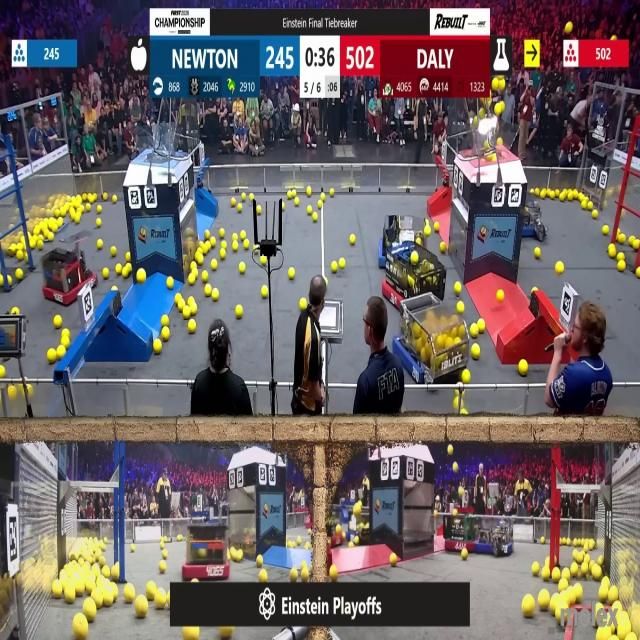ball_airborne: (494, 103, 502, 115), (492, 78, 499, 90), (567, 20, 574, 32), (499, 78, 505, 89), (496, 138, 502, 148), (448, 446, 454, 456), (458, 487, 464, 497), (480, 109, 486, 118), (472, 116, 478, 125), (488, 153, 495, 160), (452, 465, 456, 475), (611, 36, 616, 42)
ball_ground: (85, 603, 98, 623), (136, 597, 148, 618), (524, 597, 536, 618), (156, 592, 168, 610), (126, 586, 136, 604), (64, 586, 75, 602), (572, 587, 582, 604), (538, 594, 548, 610), (220, 626, 231, 640), (103, 593, 114, 607), (146, 583, 155, 599), (54, 584, 63, 600), (599, 587, 608, 602), (519, 360, 528, 374), (111, 565, 120, 579), (593, 565, 602, 579), (608, 588, 617, 602), (233, 550, 243, 562), (137, 270, 146, 283), (461, 371, 470, 384), (540, 568, 549, 581), (329, 566, 337, 580), (47, 349, 55, 363), (258, 569, 267, 581), (58, 346, 67, 358), (153, 341, 161, 354), (236, 306, 244, 319), (290, 567, 298, 580), (608, 245, 616, 258), (469, 324, 477, 337), (559, 581, 568, 592), (471, 345, 478, 359), (571, 563, 578, 577), (556, 264, 564, 276), (496, 289, 504, 301), (298, 299, 306, 311), (454, 282, 462, 294), (478, 320, 486, 332), (302, 568, 310, 580), (553, 569, 561, 581), (188, 321, 195, 334), (555, 608, 562, 621), (596, 630, 605, 640), (197, 253, 205, 264), (562, 568, 570, 579), (582, 564, 590, 575), (55, 316, 62, 328), (163, 327, 170, 339), (288, 268, 295, 280), (211, 260, 218, 272), (390, 554, 397, 566), (205, 284, 212, 296), (189, 305, 196, 317), (532, 563, 539, 575), (212, 288, 219, 300), (182, 307, 189, 319), (112, 588, 118, 602), (618, 235, 626, 245), (36, 241, 44, 251), (62, 338, 70, 348), (8, 386, 14, 399), (619, 262, 626, 273), (15, 270, 22, 281), (256, 556, 263, 567), (187, 275, 194, 286), (263, 286, 269, 298), (161, 561, 167, 573), (340, 260, 346, 272), (115, 266, 122, 276), (163, 316, 170, 326), (121, 269, 128, 279), (259, 254, 266, 264), (210, 238, 217, 248), (177, 302, 184, 312), (103, 567, 110, 577), (632, 239, 639, 249), (203, 244, 210, 254), (458, 303, 464, 314), (203, 272, 209, 283), (168, 278, 174, 289), (331, 263, 337, 274), (220, 249, 226, 260), (534, 248, 540, 259), (240, 264, 246, 275), (233, 241, 239, 252), (461, 551, 468, 560), (126, 265, 133, 274), (0, 365, 5, 377), (98, 240, 104, 250), (103, 269, 109, 279), (603, 224, 609, 234), (244, 240, 250, 250), (442, 243, 448, 253), (74, 213, 80, 223), (127, 252, 133, 262), (350, 236, 356, 246), (6, 276, 12, 286), (307, 186, 313, 196), (63, 328, 70, 336), (619, 252, 626, 260), (302, 560, 309, 568), (219, 230, 225, 239), (110, 247, 116, 256), (163, 551, 169, 560), (424, 226, 430, 235), (220, 240, 226, 249), (48, 233, 54, 242), (579, 201, 585, 210), (16, 251, 22, 260), (89, 192, 95, 201), (237, 204, 243, 213), (59, 216, 64, 226), (176, 293, 182, 301), (187, 296, 193, 304), (205, 232, 211, 240), (0, 276, 4, 288), (190, 263, 196, 271), (233, 234, 239, 242), (293, 199, 299, 207), (539, 190, 545, 198), (560, 192, 566, 200), (70, 210, 76, 218), (97, 218, 102, 227), (241, 232, 246, 241), (593, 210, 598, 219), (313, 213, 318, 222), (308, 206, 313, 215), (256, 206, 261, 215), (589, 202, 594, 211), (355, 536, 360, 545), (567, 191, 572, 200), (636, 268, 640, 279), (12, 308, 18, 315), (87, 205, 93, 212), (544, 558, 550, 565), (460, 410, 466, 417), (318, 202, 324, 209), (112, 194, 117, 202), (329, 188, 334, 196), (230, 200, 235, 208), (417, 239, 422, 247), (287, 190, 292, 198), (242, 192, 247, 200), (326, 279, 331, 287), (424, 219, 430, 225), (103, 192, 108, 199), (434, 222, 438, 230), (98, 206, 102, 214), (282, 203, 286, 211), (321, 192, 325, 200), (296, 536, 300, 544), (349, 541, 354, 547), (177, 535, 182, 541), (540, 536, 544, 543), (132, 543, 136, 550), (530, 187, 534, 194), (250, 192, 253, 200), (306, 542, 310, 548), (112, 285, 115, 292), (433, 512, 436, 518)
goal: (466, 121, 522, 160), (130, 129, 188, 160)
robot_blue: (394, 308, 469, 390), (474, 517, 514, 556), (518, 202, 546, 238)
robot_red: (379, 238, 443, 313), (43, 245, 90, 307), (184, 520, 230, 580), (444, 511, 480, 552)
